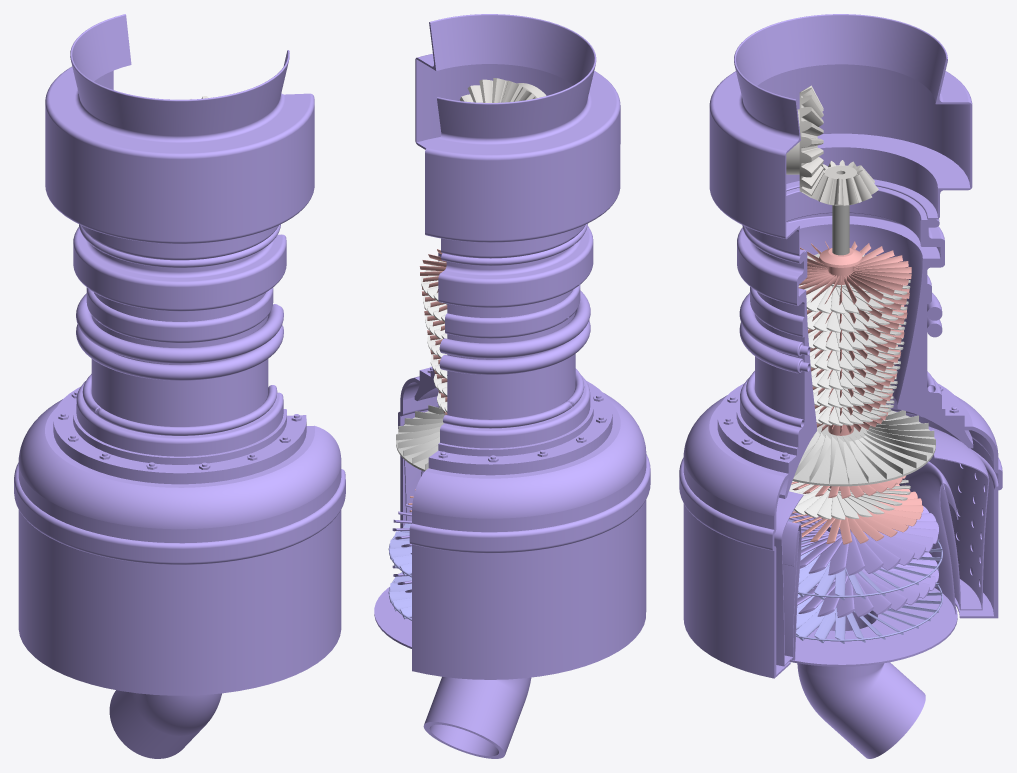
The model's file is engine.glb.
3 views of the same model, side by side, from view 1: azimuth 30°, elevation 25°; view 2: azimuth 150°, elevation 25°; view 3: azimuth 270°, elevation 25° (orthographic). The views are drawn at different scales.
Parts seen in each view (by area): view 1: mesh2041.001; view 2: mesh2041.001; view 3: mesh2041.001.
Part boxes in pixels (bbox=[...]): mesh2041.001: bbox=[14, 14, 345, 758]; mesh2041.001: bbox=[374, 14, 650, 758]; mesh2041.001: bbox=[679, 14, 1002, 758].
Size of the model in its own units: 0.1414 by 0.3514 by 0.1483.
